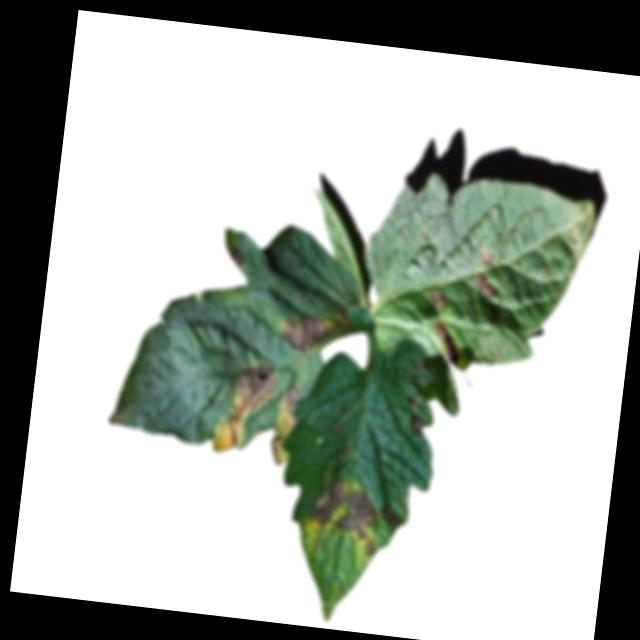Early_blight: (210, 360, 279, 458), (303, 475, 384, 556), (280, 316, 329, 354), (431, 321, 466, 361), (281, 384, 303, 428), (380, 501, 407, 531), (268, 430, 287, 466), (474, 272, 500, 298), (408, 411, 429, 436), (428, 288, 450, 311), (479, 245, 496, 268), (228, 248, 245, 267), (337, 441, 351, 457), (331, 419, 346, 433)
